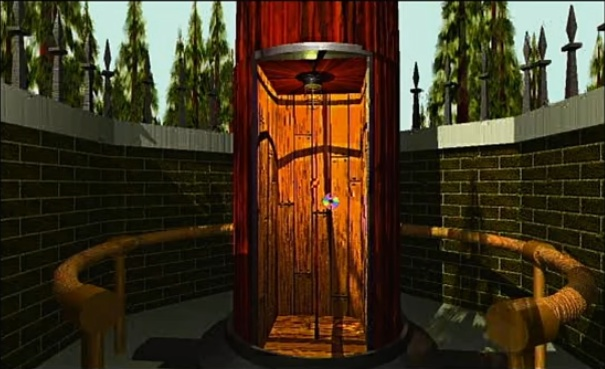Waiting: (321, 192, 341, 211)
